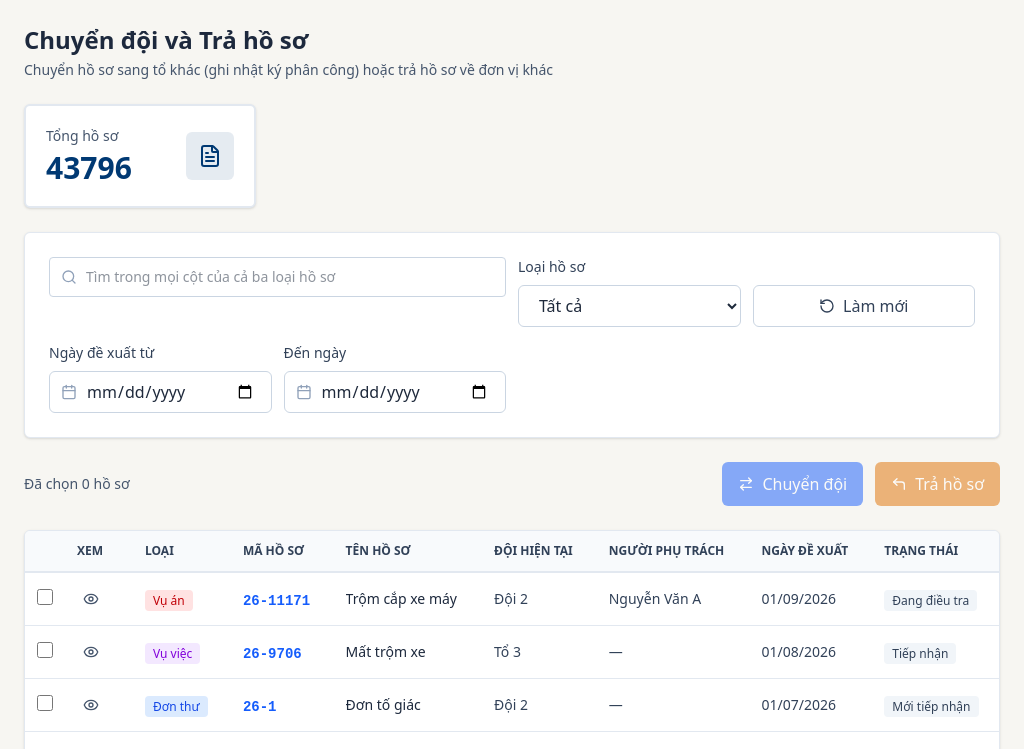
Scenario: TransferAndReturnPage — dữ liệu thật, lọc ở máy chủ › dòng đã chọn rời bảng sau khi lọc → bỏ khỏi lựa chọn, không thao tác lên hồ sơ không còn thấy
Expected: the row with test id "chuyen-tra-row-c1" is shown, [25,572,999,626]
Click the checkbox with test id "chon-c1".
click(45, 597)  # box [37,589,53,605]
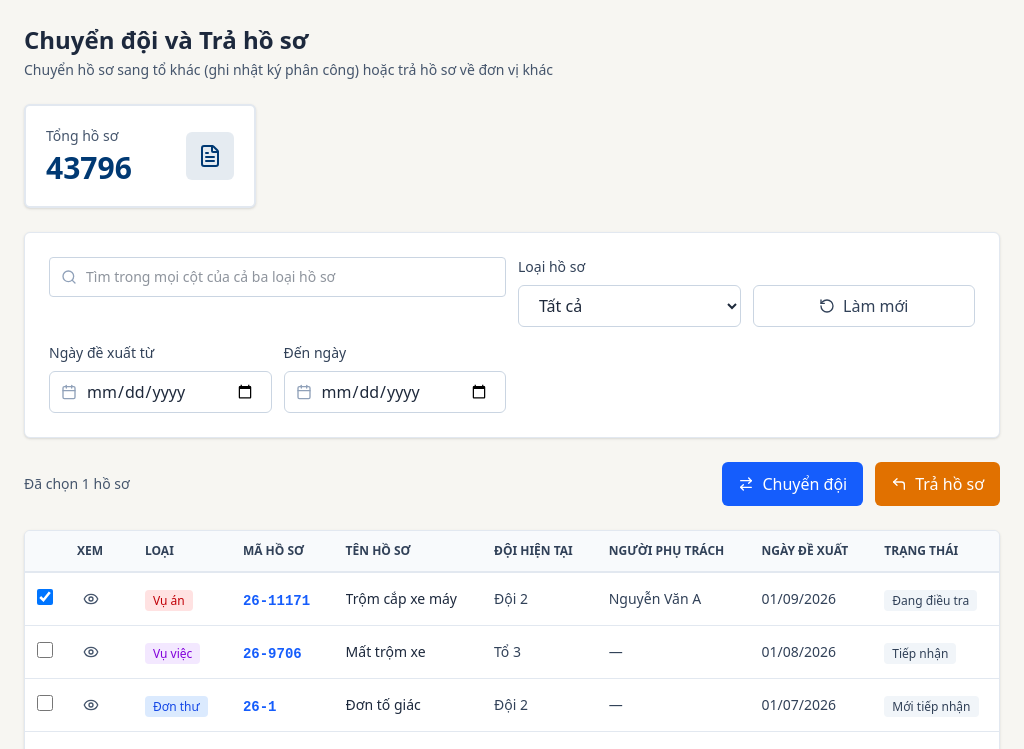
Now the button with test id "btn-chuyen-doi" is enabled, box [722,462,863,506]
Select "Vụ việc" in the dropdown with test id "loc-loai-ho-so" at (629, 306), box [518,285,740,327]
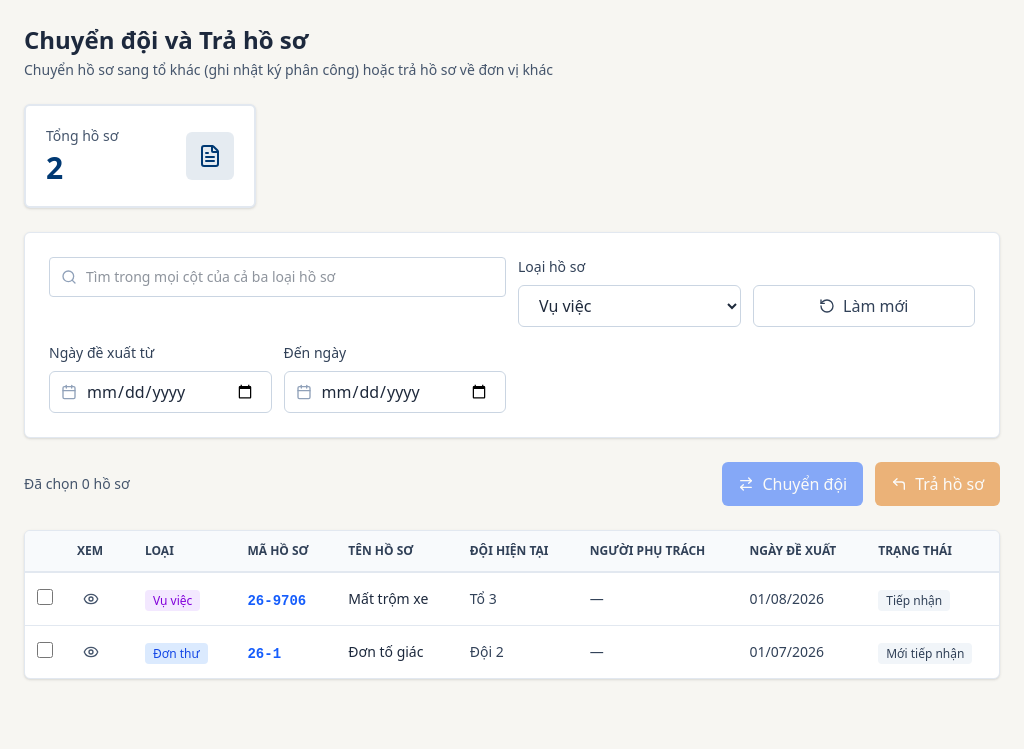
Now the row with test id "chuyen-tra-row-c1" is gone
Now the button with test id "btn-chuyen-doi" is disabled, box [722,462,863,506]
